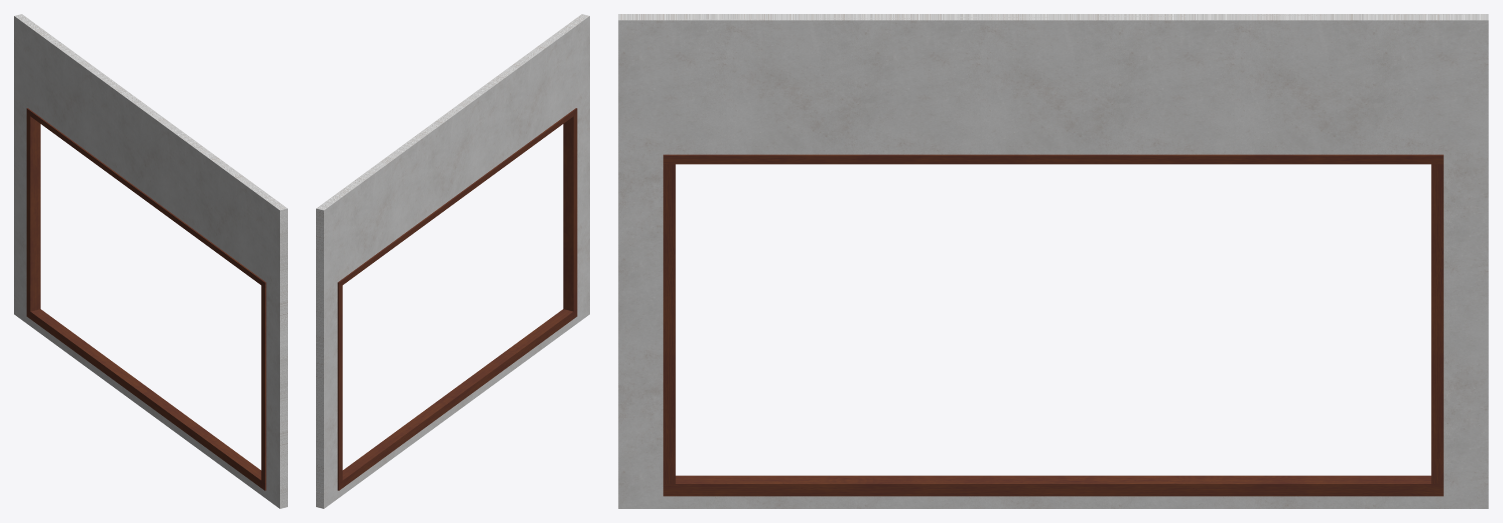
The model's file is SM_White_Red_Wall01L.fbx.
3 renders of one model, left to right at view 1: azimuth 30°, elevation 25°; view 2: azimuth 150°, elevation 25°; view 3: azimuth 270°, elevation 25°, orthographic. The views are drawn at different scales.
Visible parts, largest first — view 1: SM_White_Red_Wall01L; view 2: SM_White_Red_Wall01L; view 3: SM_White_Red_Wall01L.
Boxes of the visible parts, x1,y1,x2,y2 form: SM_White_Red_Wall01L: (14,14,287,508); SM_White_Red_Wall01L: (316,14,589,508); SM_White_Red_Wall01L: (618,14,1488,508).
Size of the model in its own units: 8.99 by 400 by 248.
